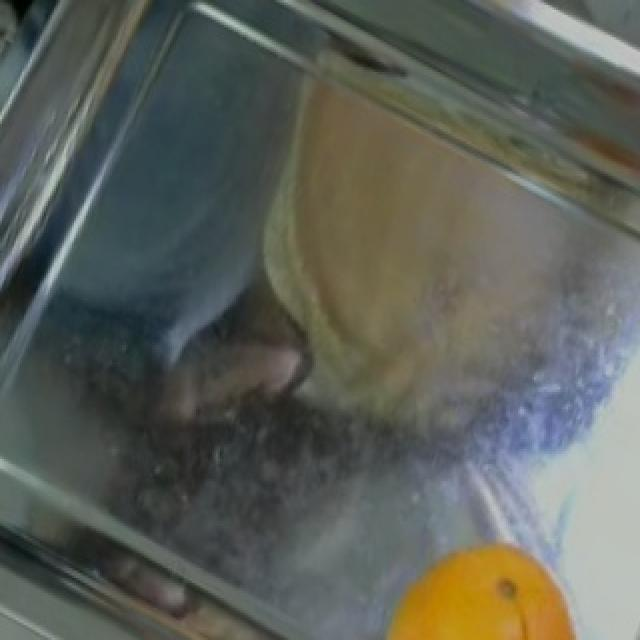Fruit: (372, 518, 598, 640)
